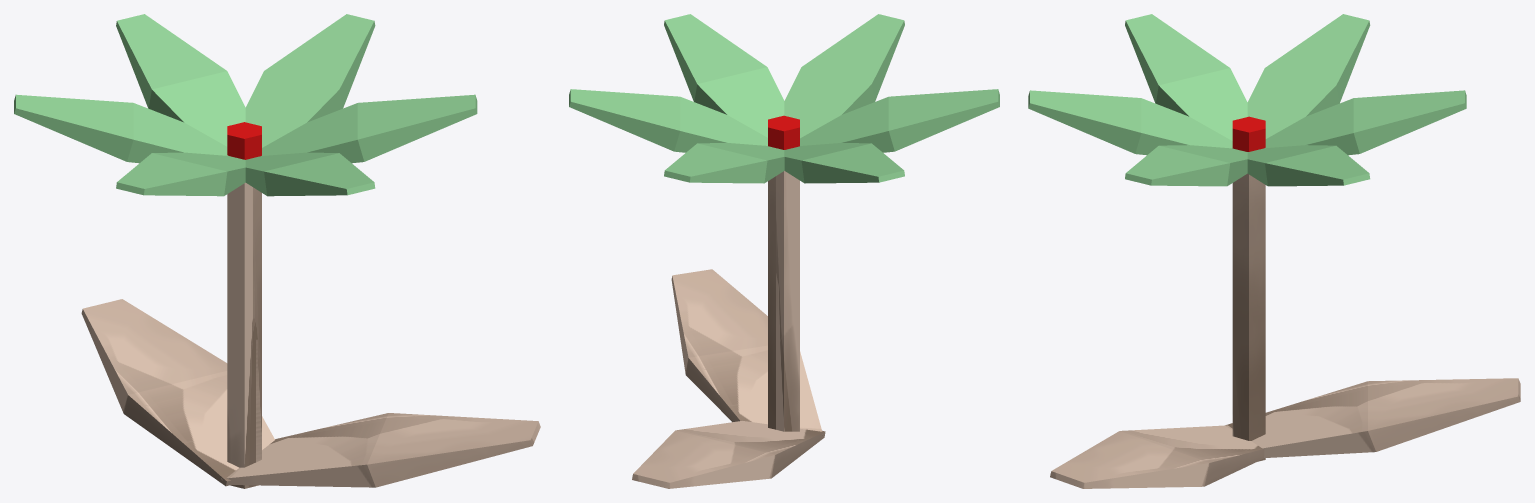
File: daisy_full.FBX
3 renders of one model, left to right at view 1: azimuth 30°, elevation 25°; view 2: azimuth 150°, elevation 25°; view 3: azimuth 270°, elevation 25°, orthographic. The views are drawn at different scales.
Visible parts, largest first — view 1: Daisy full; view 2: Daisy full; view 3: Daisy full.
Boxes of the visible parts, x1,y1,x2,y2 form: Daisy full: [14, 14, 540, 488]; Daisy full: [569, 14, 999, 488]; Daisy full: [1028, 14, 1520, 488].
Size of the model in its own units: 0.135 by 0.1259 by 0.1563.
